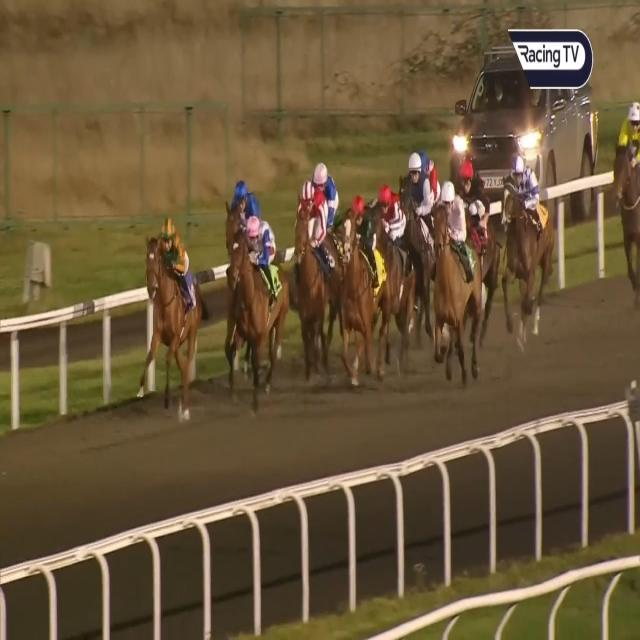horses-racing: (498, 162, 560, 338), (137, 214, 200, 372), (285, 184, 336, 373), (228, 205, 280, 382), (432, 192, 480, 356), (348, 191, 381, 361), (371, 176, 410, 318), (616, 96, 640, 312), (456, 158, 502, 268), (404, 158, 436, 308), (312, 161, 352, 256), (221, 174, 262, 262), (413, 147, 449, 211)
